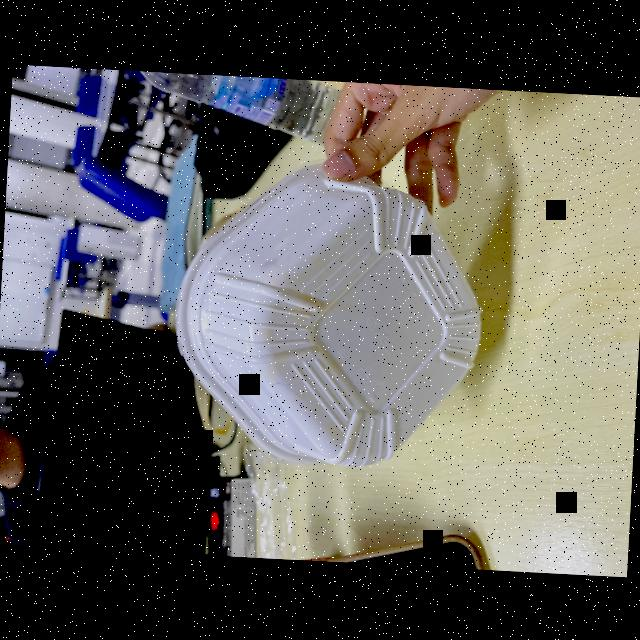plastic_box: (158, 162, 496, 478)
